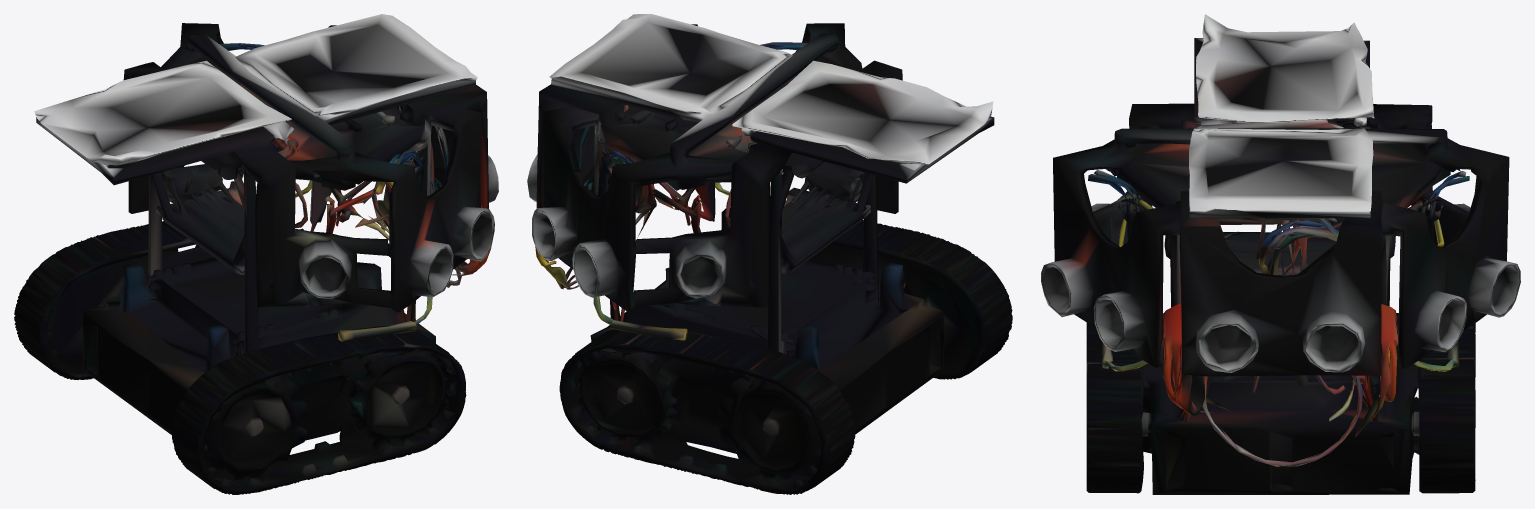
File: robot-run.glb
3 renders of one model, left to right at view 1: azimuth 30°, elevation 25°; view 2: azimuth 150°, elevation 25°; view 3: azimuth 270°, elevation 25°, orthographic. The views are drawn at different scales.
Visible parts, largest first — view 1: output_unwrapped; view 2: output_unwrapped; view 3: output_unwrapped.
Boxes of the visible parts, left/top/right/bottom form: output_unwrapped: left=14, top=14, right=498, bottom=494; output_unwrapped: left=527, top=14, right=1012, bottom=494; output_unwrapped: left=1041, top=14, right=1520, bottom=494.
Bounding box in the file's own units: 1.89 × 1.49 × 1.89.
